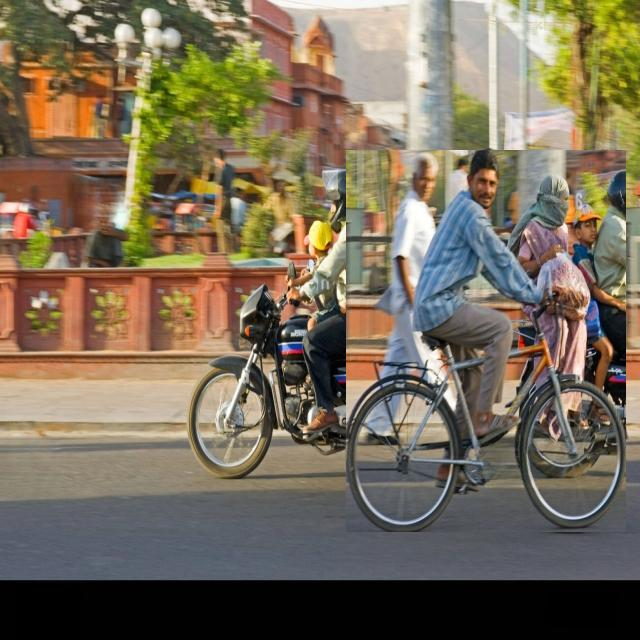bicycle: (346, 150, 626, 532)
motorcycle: (188, 169, 399, 477)
